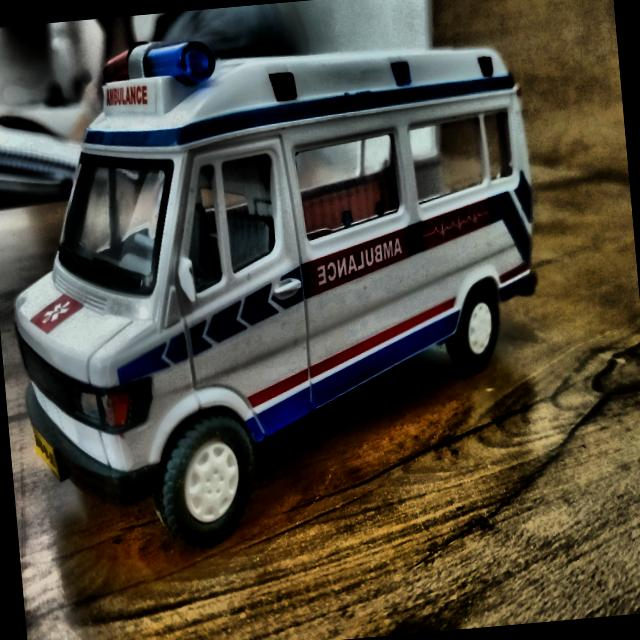Ambulance: (0, 6, 566, 556)
